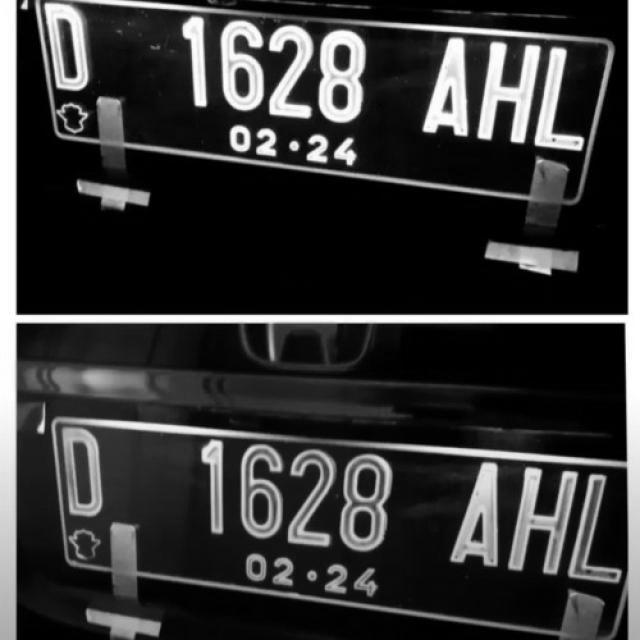1: (194, 437, 232, 542), (174, 10, 208, 115)
2: (263, 20, 315, 125), (286, 446, 338, 548)
6: (238, 436, 290, 550), (213, 13, 263, 119)
8: (336, 442, 389, 556), (313, 31, 367, 123)
A: (420, 33, 474, 153), (453, 460, 502, 573)
D: (40, 0, 94, 102), (58, 420, 106, 530)
H: (473, 35, 535, 153), (514, 460, 574, 580)
L: (566, 471, 632, 584), (533, 38, 585, 165)
